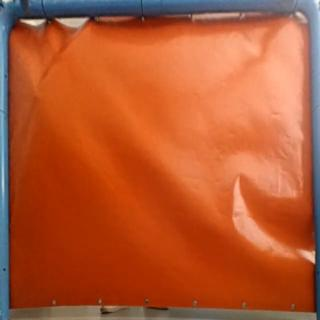Hit-hRxx: (29, 89, 42, 101)
